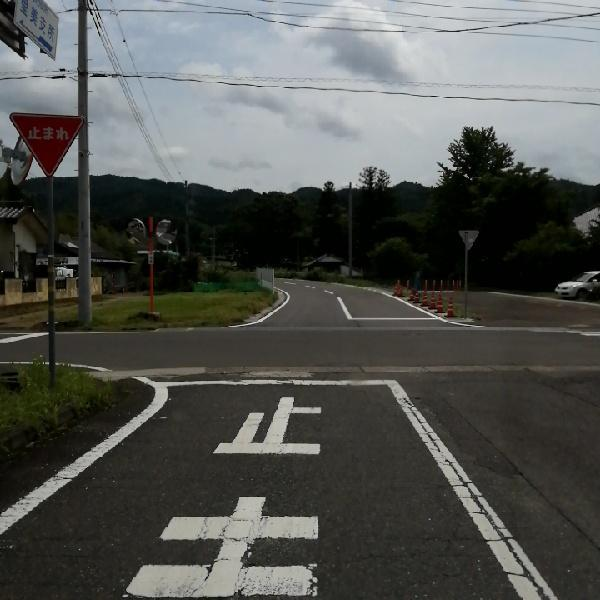D20: (345, 518, 489, 587)
